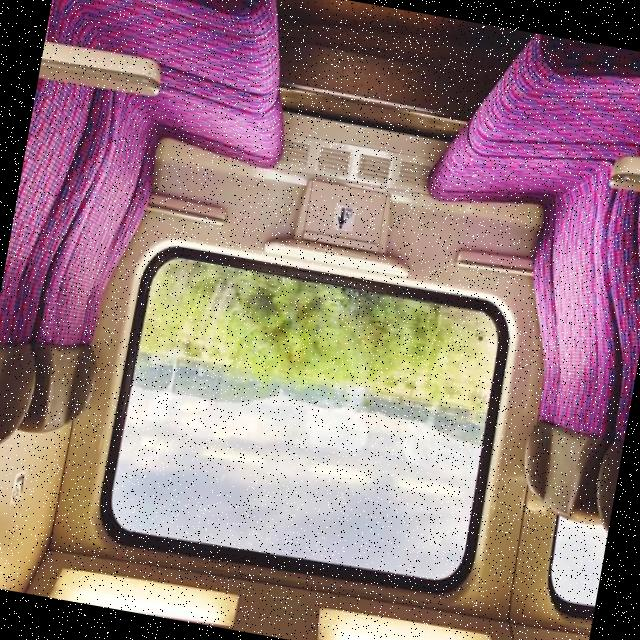Window: (73, 219, 537, 620)
